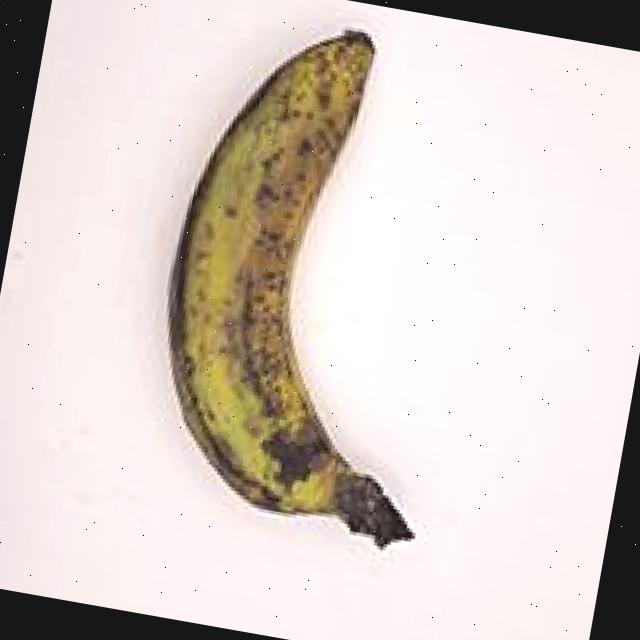Overripe: (97, 0, 530, 588)
